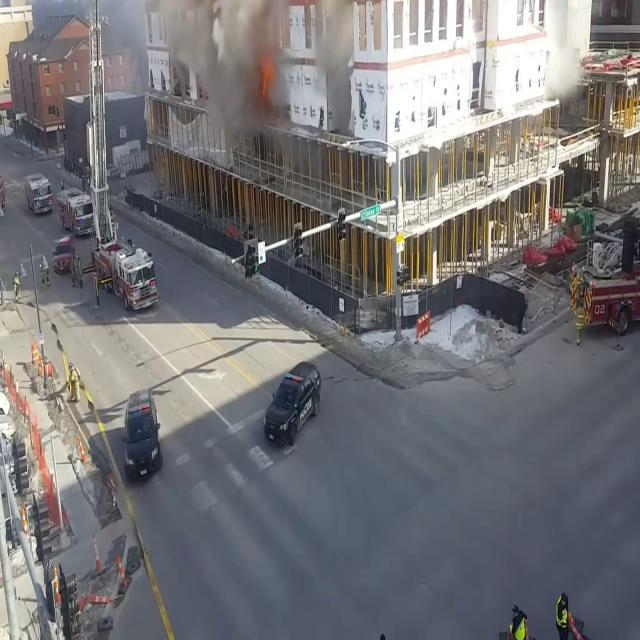Smoke: (202, 0, 300, 148), (544, 0, 586, 113)
